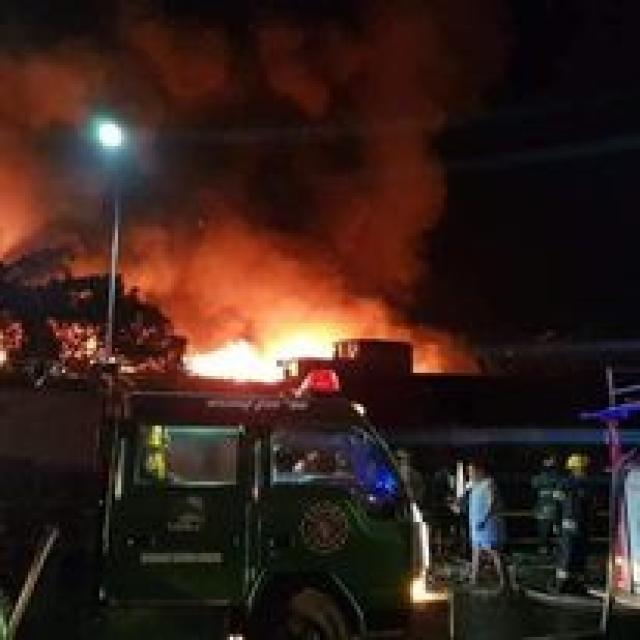Fire: (168, 325, 352, 385)
Smoke: (123, 0, 469, 323)
